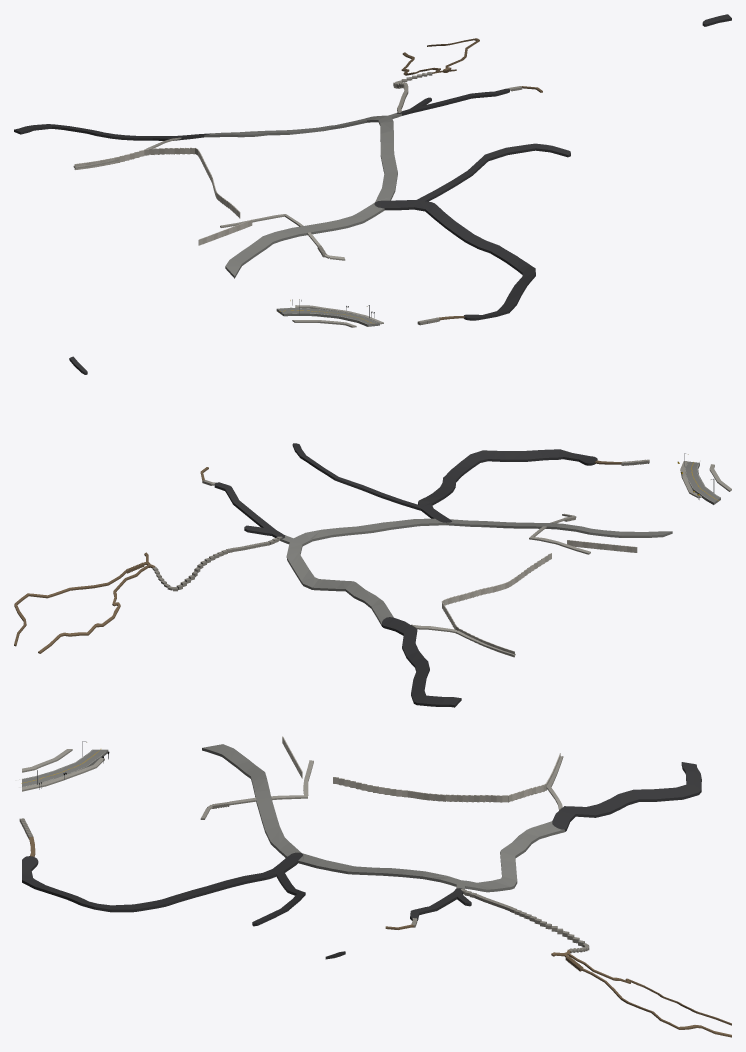
3 views of the same model, one above another, from view 1: azimuth 30°, elevation 25°; view 2: azimuth 150°, elevation 25°; view 3: azimuth 270°, elevation 25° (orthographic). The views are drawn at different scales.
Bounding box in the file's own units: 295 × 68.12 × 295.
